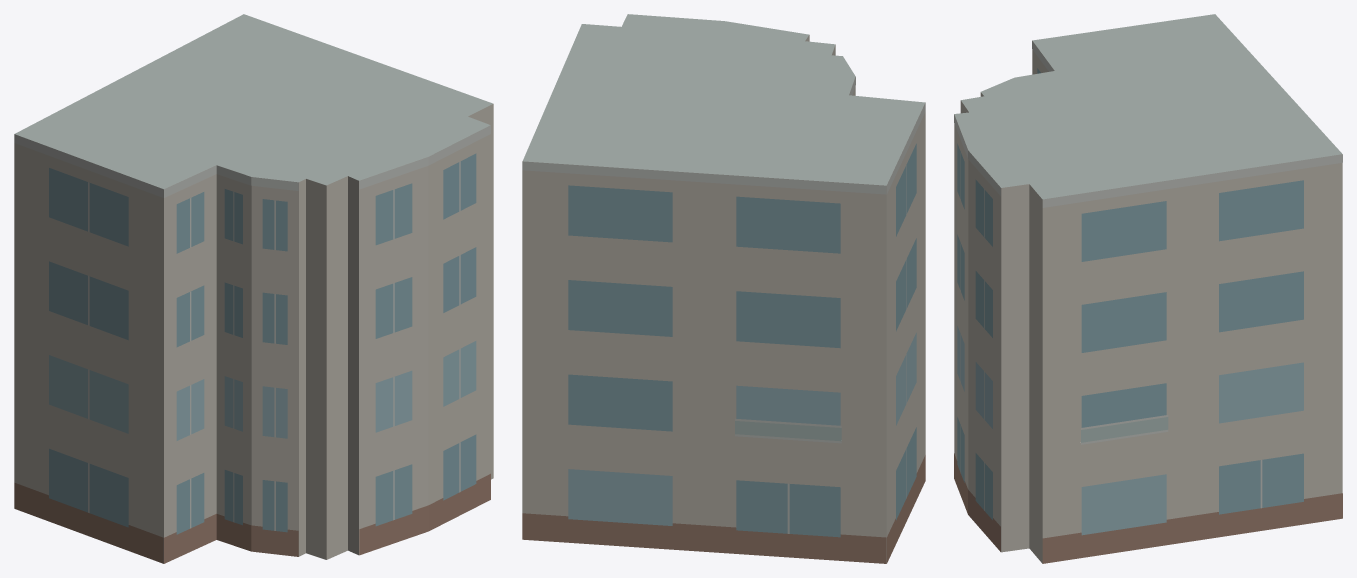
Rendered from survey-upis-32624505.glb.
3 renders of one model, left to right at view 1: azimuth 30°, elevation 25°; view 2: azimuth 150°, elevation 25°; view 3: azimuth 270°, elevation 25°, orthographic. The views are drawn at different scales.
Visible parts, largest first — view 1: survey-upis-32624505.tmp; view 2: survey-upis-32624505.tmp; view 3: survey-upis-32624505.tmp.
Part boxes in pixels (x1,y1,x2,y2): survey-upis-32624505.tmp: (14, 14, 493, 563); survey-upis-32624505.tmp: (522, 14, 925, 563); survey-upis-32624505.tmp: (954, 14, 1342, 563).
Bounding box in the file's own units: 11.29 × 10.34 × 10.
